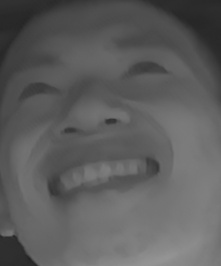eye: (120, 51, 167, 84), (15, 75, 62, 103)
